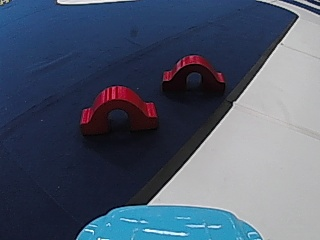bridge: (75, 80, 159, 134), (160, 50, 227, 95)
